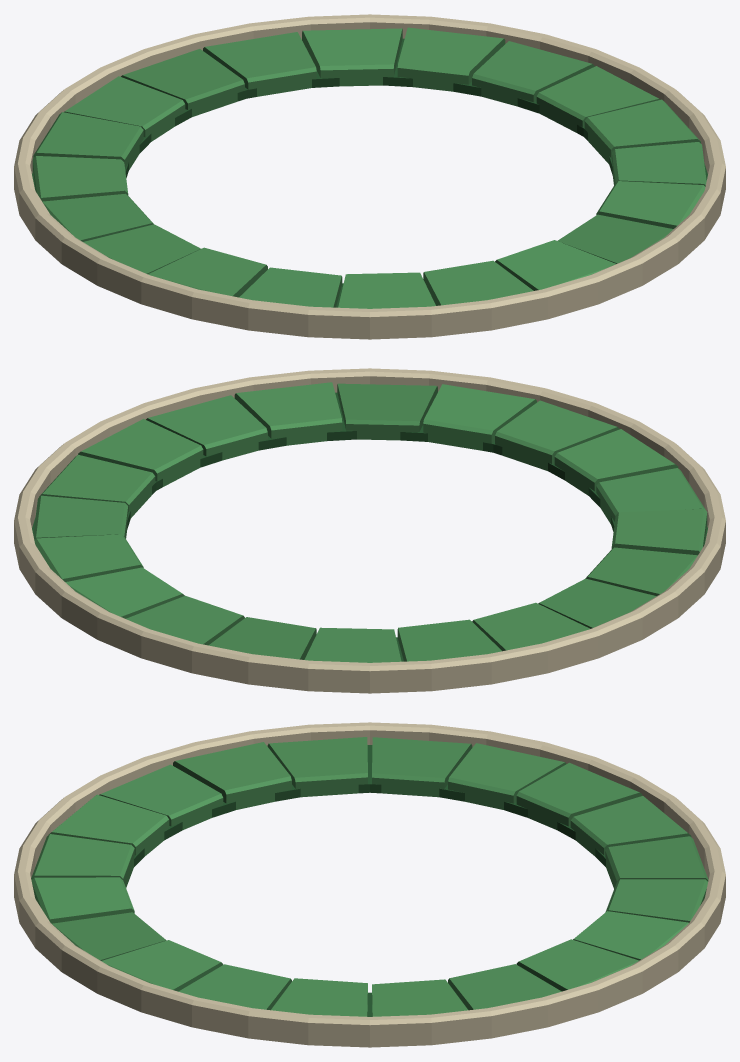
File: habitat_frame_2.fbx
3 views of the same model, one above another, from view 1: azimuth 30°, elevation 25°; view 2: azimuth 150°, elevation 25°; view 3: azimuth 270°, elevation 25° (orthographic).
Visible parts, largest first — view 1: habitat_frame_2; view 2: habitat_frame_2; view 3: habitat_frame_2.
Part boxes in pixels (bbox=[...]): habitat_frame_2: bbox=[14, 14, 725, 339]; habitat_frame_2: bbox=[14, 368, 725, 693]; habitat_frame_2: bbox=[14, 722, 725, 1047].
Bounding box in the file's own units: 7.5 × 0.3 × 7.5.
